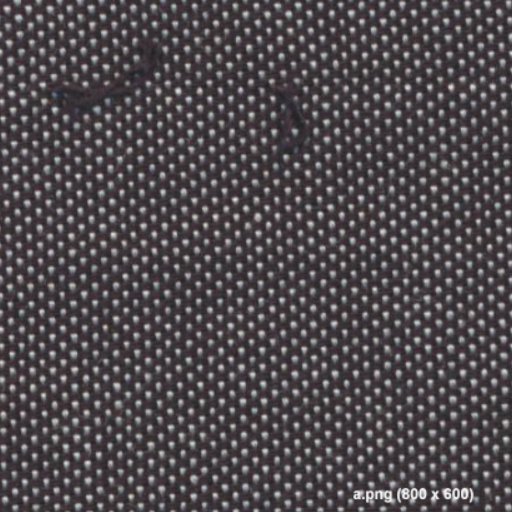DuanSha: (48, 34, 184, 118), (249, 70, 332, 155)
